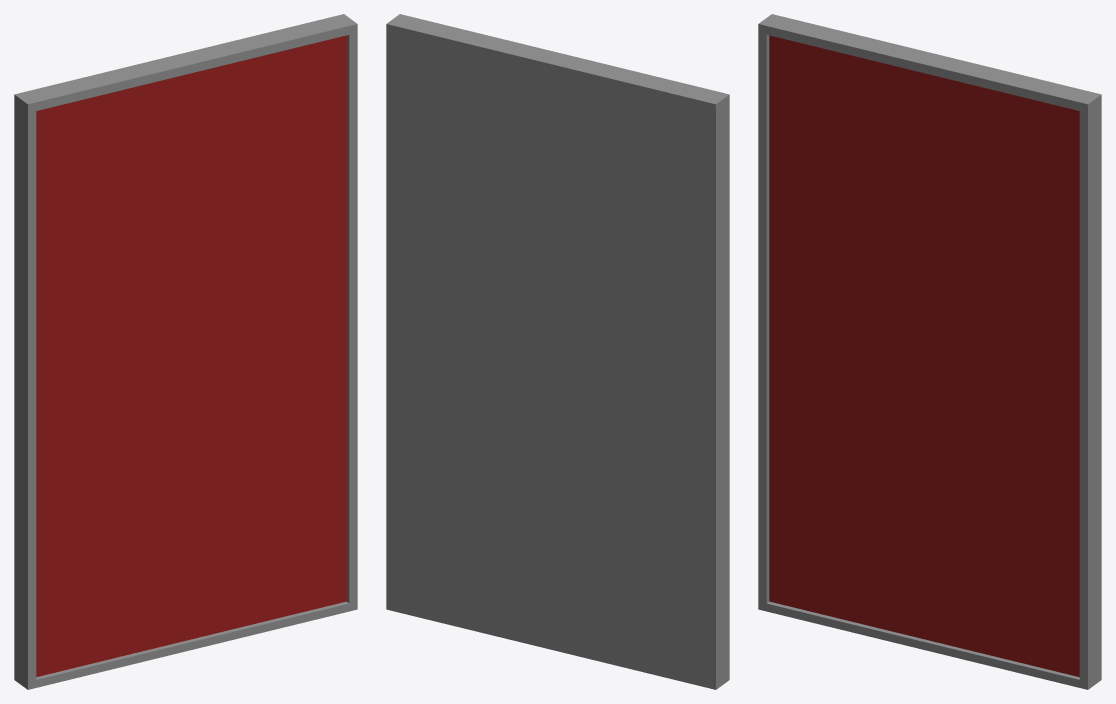
The model's file is SK5_Front_Display_Cube_15.FBX.
3 renders of one model, left to right at view 1: azimuth 30°, elevation 25°; view 2: azimuth 150°, elevation 25°; view 3: azimuth 330°, elevation 25°, orthographic.
Parts seen in each view (by area): view 1: SK5_Front_Display_Cube_15; view 2: SK5_Front_Display_Cube_15; view 3: SK5_Front_Display_Cube_15.
Boxes of the visible parts, box(x1,y1,x2,y2) form: SK5_Front_Display_Cube_15: box(14, 14, 357, 689); SK5_Front_Display_Cube_15: box(386, 14, 729, 689); SK5_Front_Display_Cube_15: box(758, 14, 1101, 689).
Bounding box in the file's own units: 36.43 × 61.83 × 2.6.
